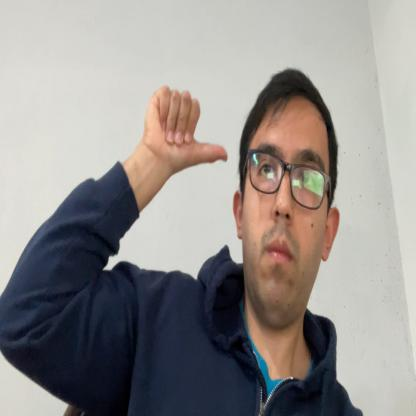A: (142, 84, 230, 173)
